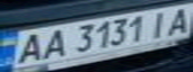1: (124, 12, 151, 43), (93, 18, 115, 50)
3: (69, 21, 97, 54), (109, 16, 133, 47)
A: (9, 30, 51, 64), (36, 27, 72, 61), (160, 4, 193, 36)
I: (142, 9, 175, 38)
